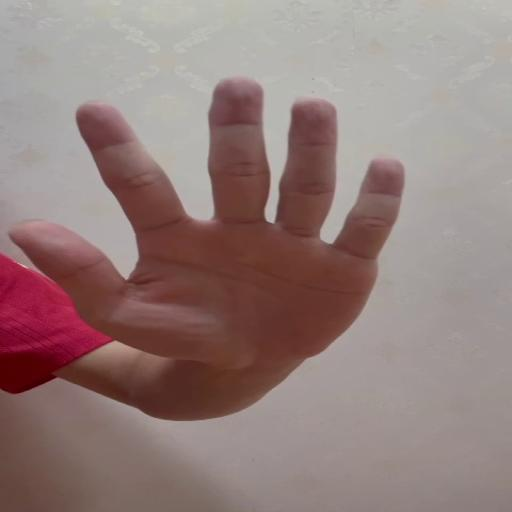open_palm: (10, 75, 406, 372)
